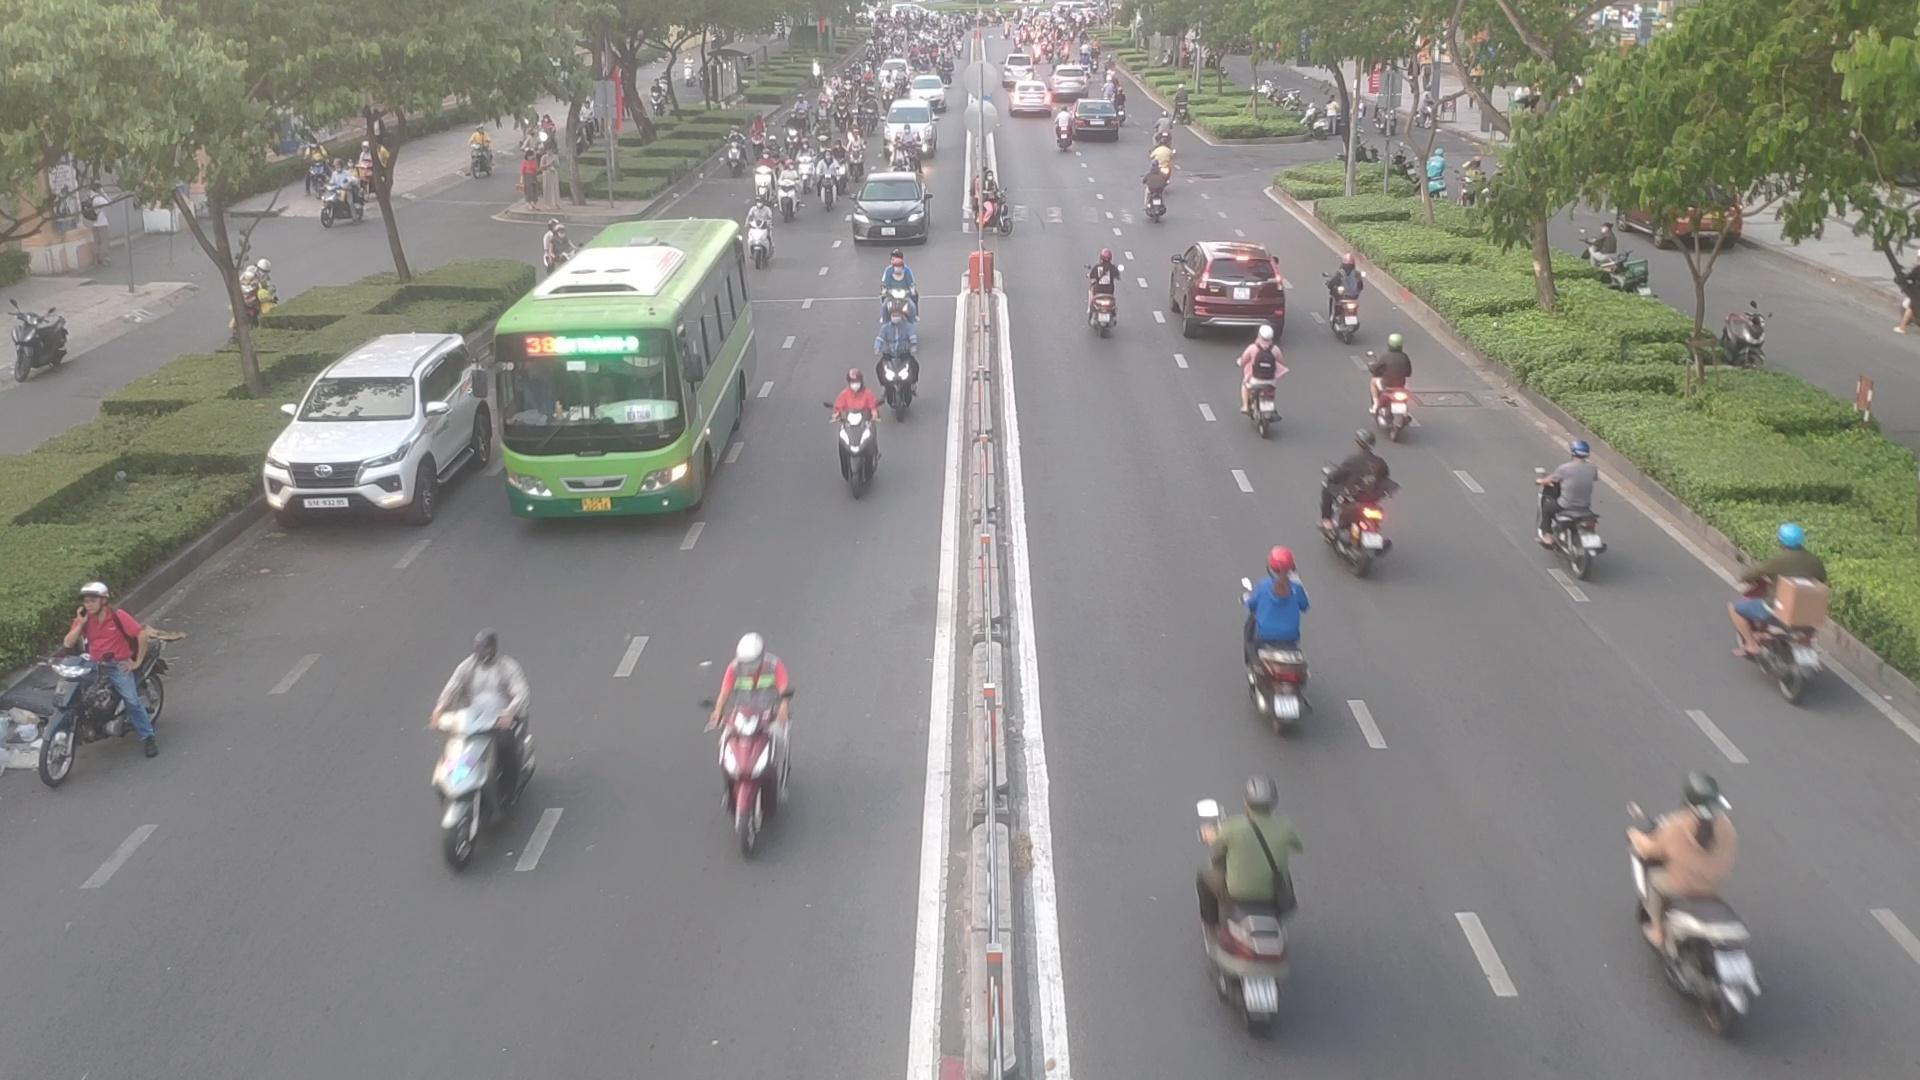bus: (487, 228, 766, 524)
car: (266, 332, 518, 527), (1167, 244, 1287, 339), (844, 173, 930, 245)
motorbike: (1627, 770, 1774, 1035), (1189, 764, 1305, 1036), (22, 584, 169, 775), (413, 625, 533, 857), (691, 626, 796, 847), (1737, 510, 1836, 705), (1230, 563, 1328, 719), (1535, 438, 1615, 575), (1321, 440, 1404, 566), (823, 371, 895, 495), (870, 303, 926, 419), (1232, 323, 1288, 431), (1366, 334, 1424, 433), (1323, 261, 1374, 345), (1077, 253, 1126, 340), (1139, 152, 1176, 229), (771, 175, 802, 222)
